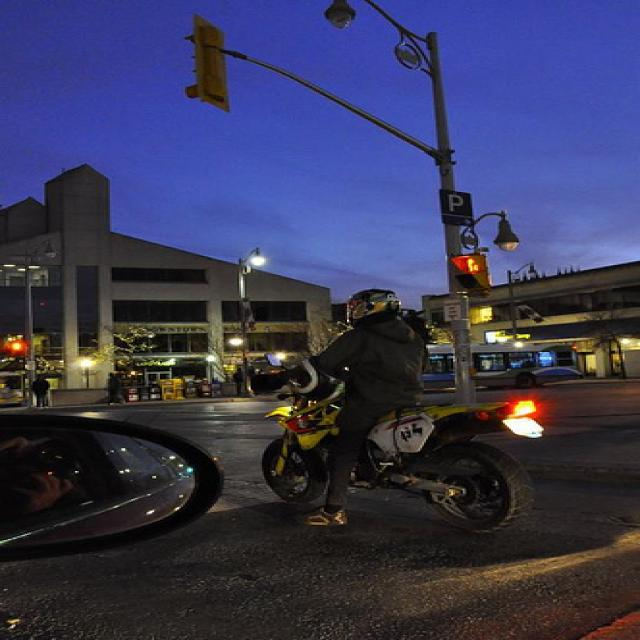Motorbike: (191, 316, 581, 570)
